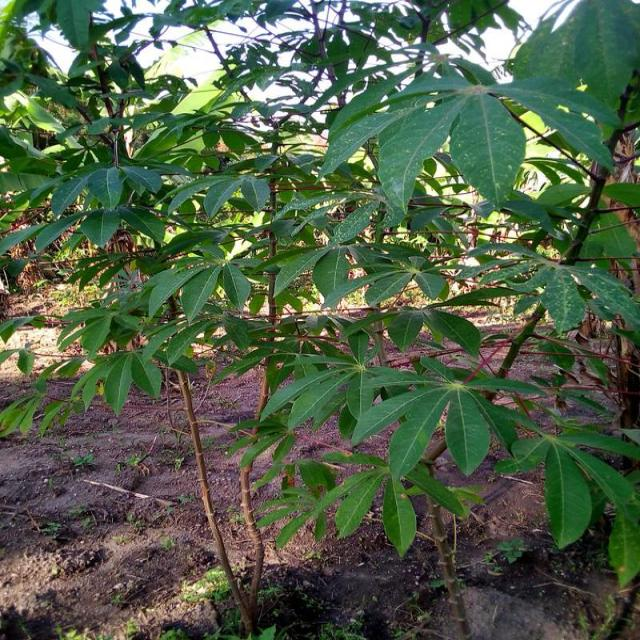cassava leaf: (450, 88, 527, 209)
